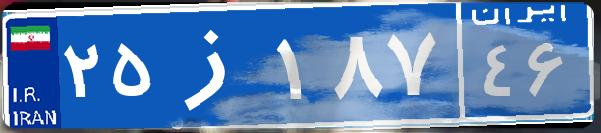1: (273, 28, 330, 110)
2: (57, 26, 110, 107)
4: (475, 38, 525, 113)
5: (110, 28, 158, 105)
6: (525, 38, 570, 115)
7: (385, 28, 445, 110)
8: (330, 28, 385, 110)
ز: (158, 15, 273, 115)
